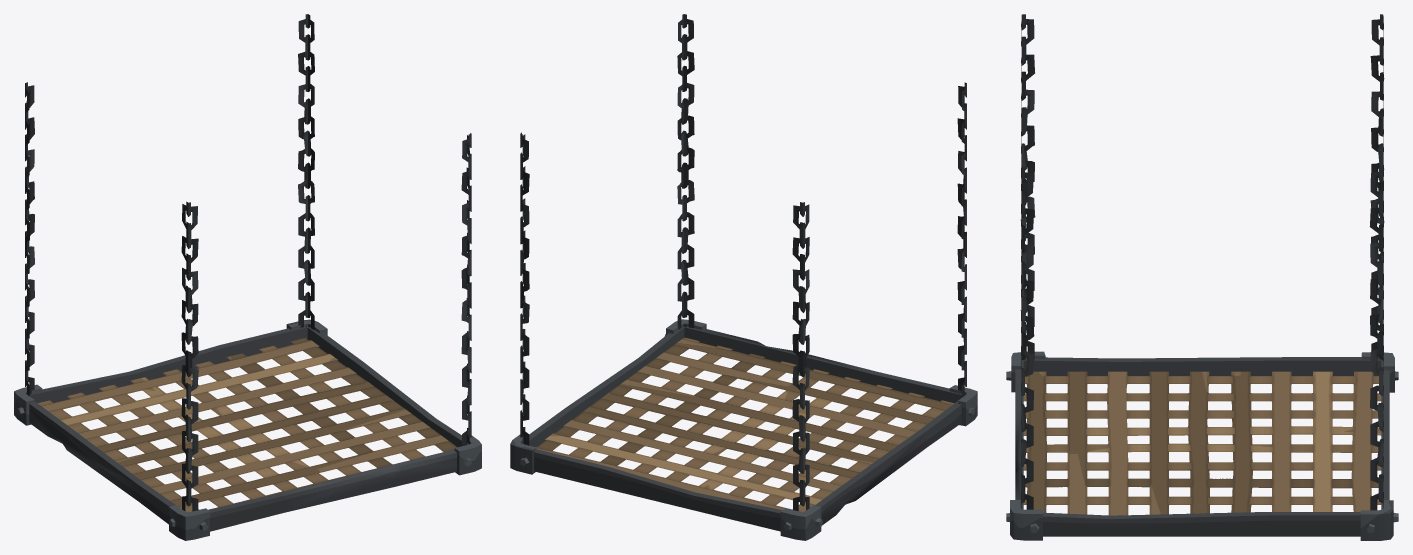
Rendered from SM_Prop_Hanging_Platform_01.fbx.
3 views of the same model, side by side, from view 1: azimuth 30°, elevation 25°; view 2: azimuth 150°, elevation 25°; view 3: azimuth 270°, elevation 25° (orthographic). The views are drawn at different scales.
Parts seen in each view (by area): view 1: SM_Prop_Hanging_Platform_01; view 2: SM_Prop_Hanging_Platform_01; view 3: SM_Prop_Hanging_Platform_01.
Part boxes in pixels (x1,y1,x2,y2): SM_Prop_Hanging_Platform_01: (14, 14, 481, 540); SM_Prop_Hanging_Platform_01: (510, 14, 977, 540); SM_Prop_Hanging_Platform_01: (1006, 14, 1398, 540).
Size of the model in its own units: 262 by 272 by 262.
